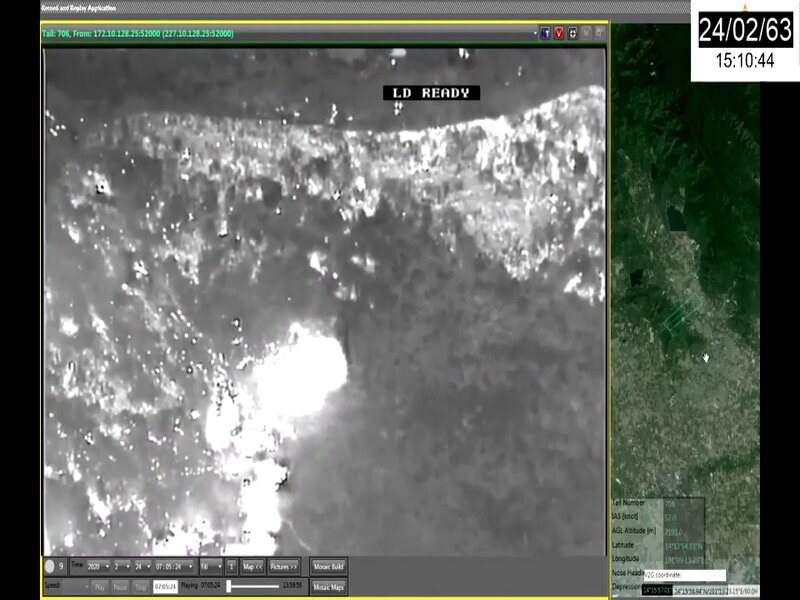Fire: (154, 321, 349, 555)
